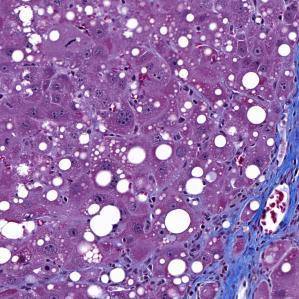fibrosis: (212, 192, 299, 271)
